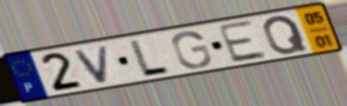2: (39, 51, 86, 93)
E: (215, 18, 271, 65)
G: (170, 30, 214, 70)
L: (127, 38, 173, 77)
Q: (261, 13, 310, 56)
V: (72, 43, 112, 86)
